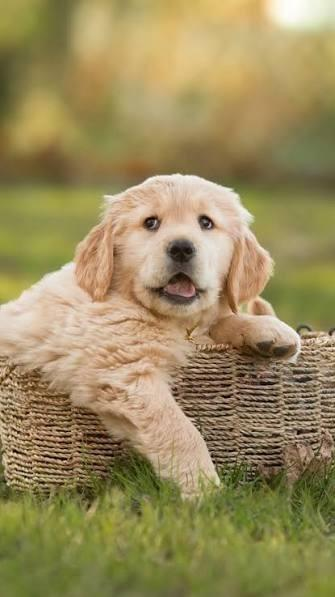puppy-dog: (0, 175, 302, 509)
